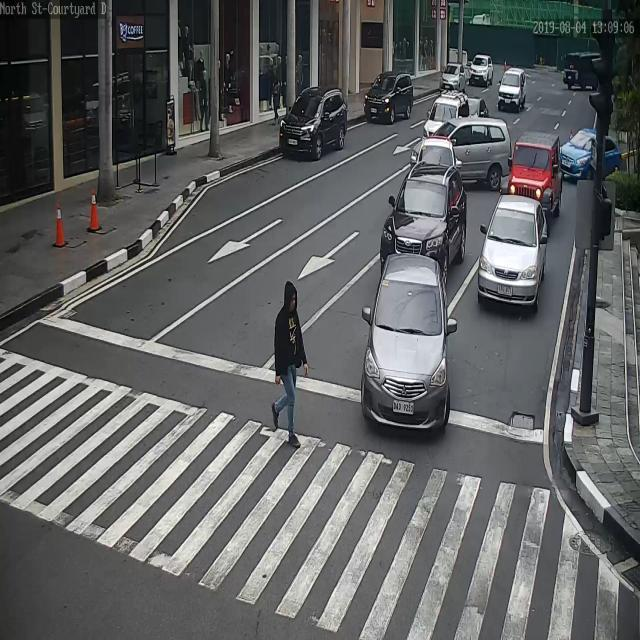bus: (562, 50, 603, 88)
car: (360, 252, 450, 433), (379, 160, 467, 279), (476, 195, 549, 307), (411, 116, 512, 192), (280, 88, 349, 164), (560, 126, 621, 181), (364, 71, 414, 126), (424, 89, 470, 139), (412, 139, 457, 171), (496, 68, 527, 110), (469, 53, 494, 88), (439, 62, 466, 93), (467, 94, 489, 118)
tricycle: (503, 130, 564, 216)
